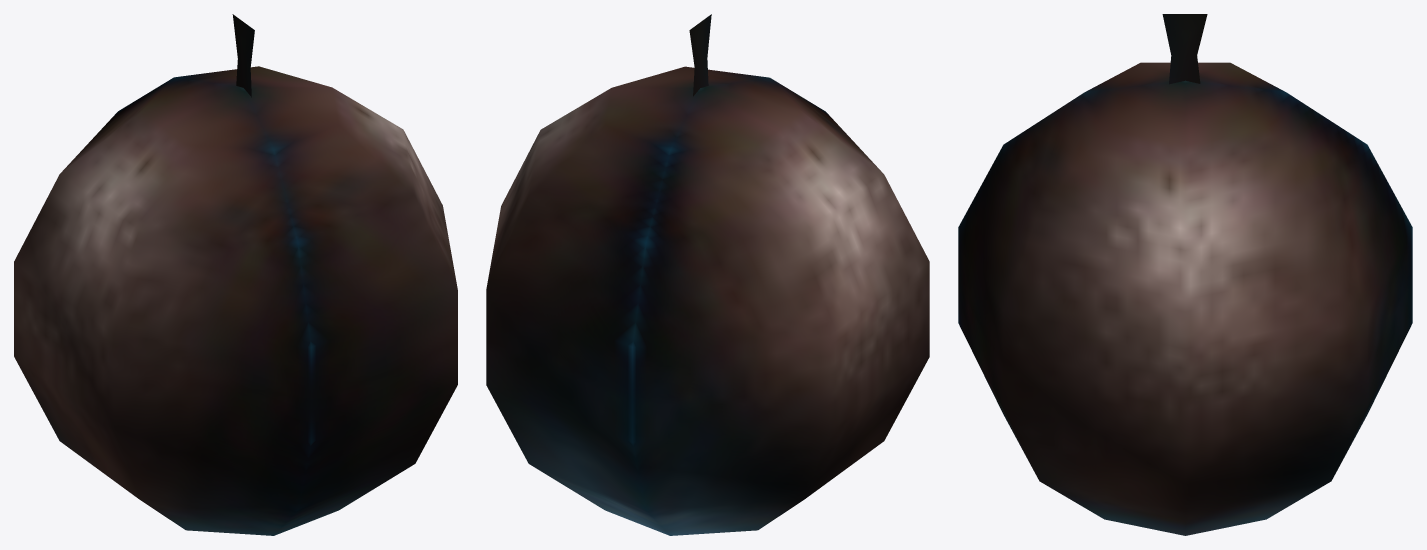
The model's file is shop_weapons_grenade.fbx.
The picture shows the model from 3 angles, left to right: view 1: azimuth 30°, elevation 25°; view 2: azimuth 150°, elevation 25°; view 3: azimuth 270°, elevation 25°; orthographic projection.
Visible parts, largest first — view 1: grendade_group; view 2: grendade_group; view 3: grendade_group.
Part boxes in pixels (left/top/right/bottom): grendade_group: left=14, top=14, right=457, bottom=535; grendade_group: left=486, top=14, right=929, bottom=535; grendade_group: left=958, top=14, right=1412, bottom=535.
Size of the model in its own units: 55.98 by 69.73 by 57.42.
Materials: 1 (1 with a texture image).
